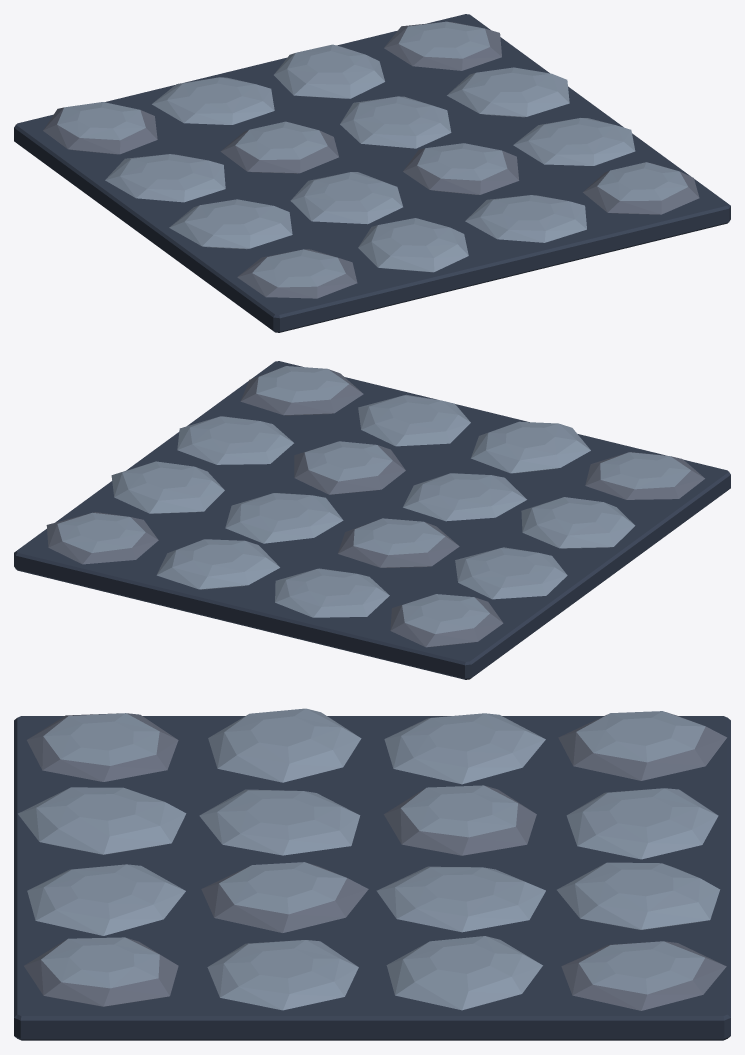
The model's file is floor-rubble.glb.
3 renders of one model, top to bottom at view 1: azimuth 30°, elevation 25°; view 2: azimuth 150°, elevation 25°; view 3: azimuth 270°, elevation 25°, orthographic. The views are drawn at different scales.
Parts seen in each view (by area): view 1: floor-rubble__body; view 2: floor-rubble__body; view 3: floor-rubble__body.
Boxes of the visible parts, x1,y1,x2,y2 form: floor-rubble__body: (14, 14, 730, 332); floor-rubble__body: (14, 361, 730, 679); floor-rubble__body: (14, 708, 730, 1040).
Size of the model in its own units: 2 by 0.14 by 2.
